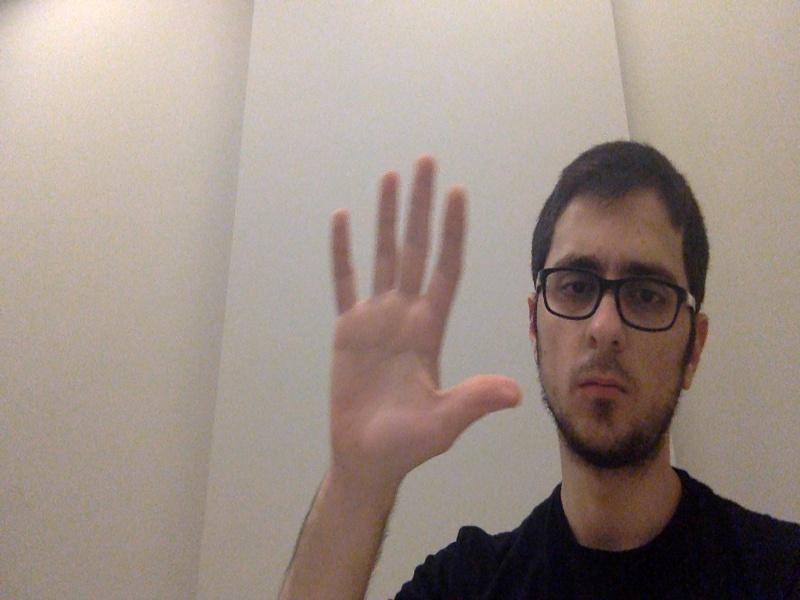5-hand: (316, 153, 530, 470)
